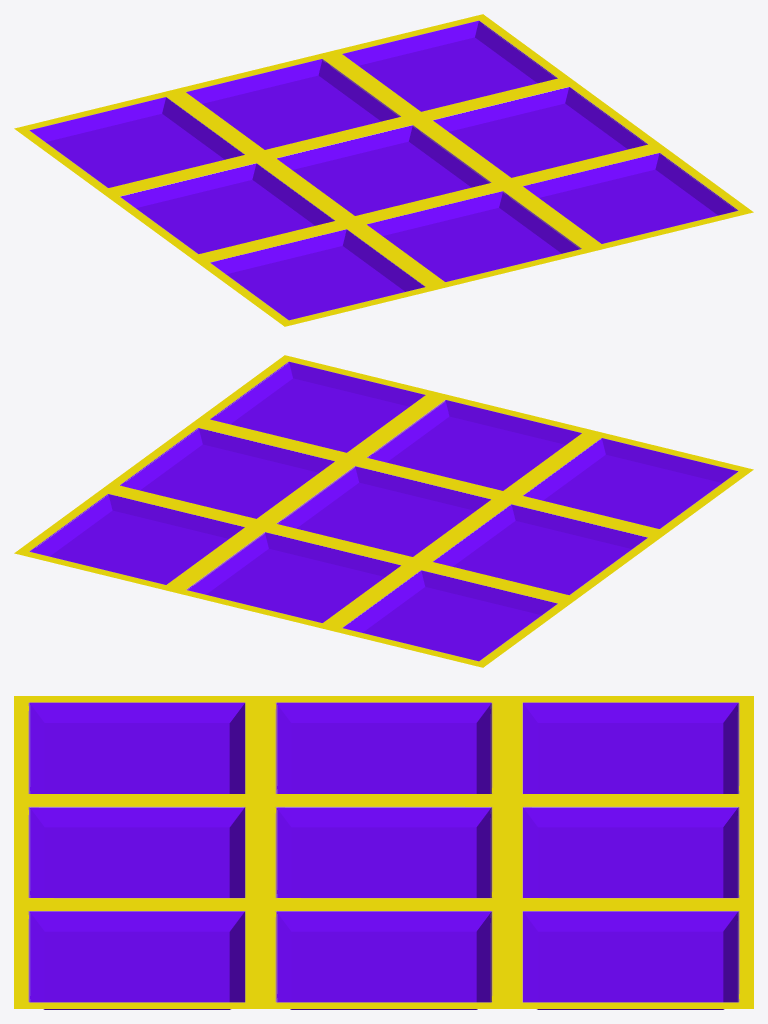
Rendered from Ceiling_1.fbx.
The picture shows the model from 3 angles, top to bottom: view 1: azimuth 30°, elevation 25°; view 2: azimuth 150°, elevation 25°; view 3: azimuth 270°, elevation 25°; orthographic projection. The views are drawn at different scales.
Visible parts, largest first — view 1: Ceiling_1; view 2: Ceiling_1; view 3: Ceiling_1.
Boxes of the visible parts, x1,y1,x2,y2 form: Ceiling_1: (14,14,753,326); Ceiling_1: (14,355,753,667); Ceiling_1: (14,696,753,1009).
Bounding box in the file's own units: 300 × 6.25 × 300.
